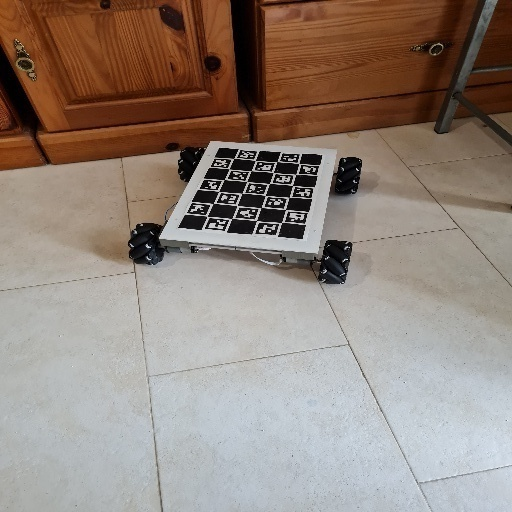Omniwheel: (125, 139, 363, 286)
